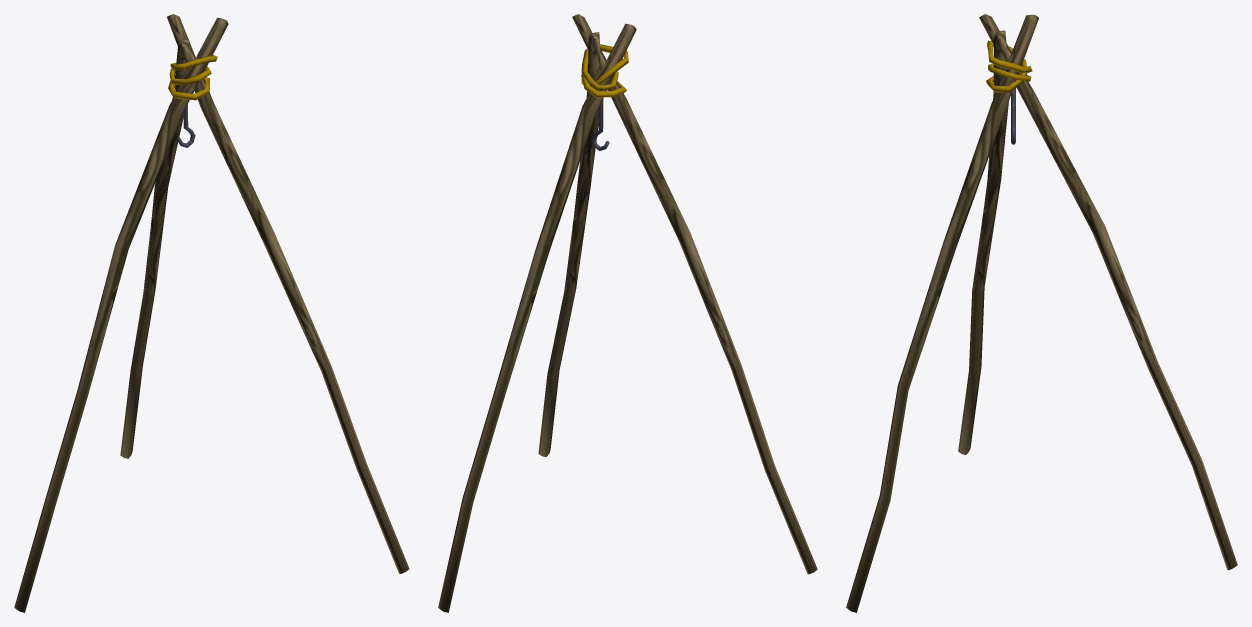
The model's file is Stand02.fbx.
The picture shows the model from 3 angles, left to right: view 1: azimuth 30°, elevation 25°; view 2: azimuth 150°, elevation 25°; view 3: azimuth 270°, elevation 25°; orthographic projection.
Visible parts, largest first — view 1: Stand02_LOD0; view 2: Stand02_LOD0; view 3: Stand02_LOD0.
Part boxes in pixels (bbox=[...]): Stand02_LOD0: bbox=[14, 14, 409, 612]; Stand02_LOD0: bbox=[438, 14, 817, 612]; Stand02_LOD0: bbox=[846, 14, 1237, 612].
Size of what is drawn, in the model's own units: 82.11 by 123 by 82.39.
